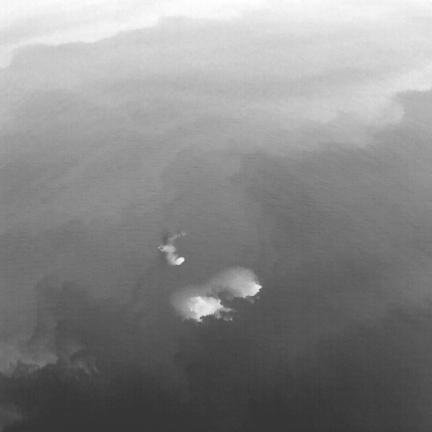flukeprints: (187, 296, 230, 320), (230, 269, 261, 296), (175, 256, 184, 265)
